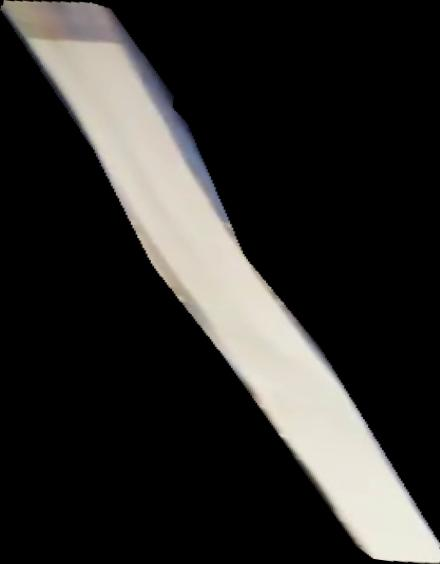backward: (1, 1, 440, 564)
